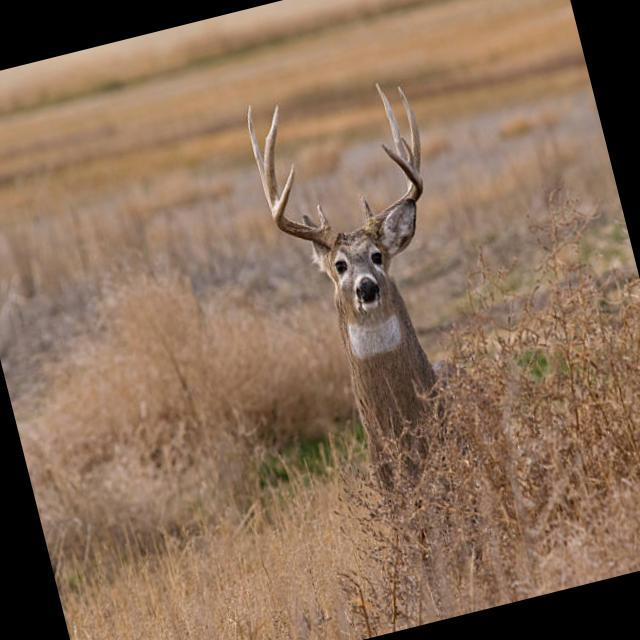E1: (400, 135, 414, 169)
L-F: (363, 141, 423, 237)
L-G1: (357, 194, 372, 223)
R-F: (274, 162, 339, 249)
R-G1: (317, 203, 330, 229)
R-G3: (263, 103, 279, 215)
